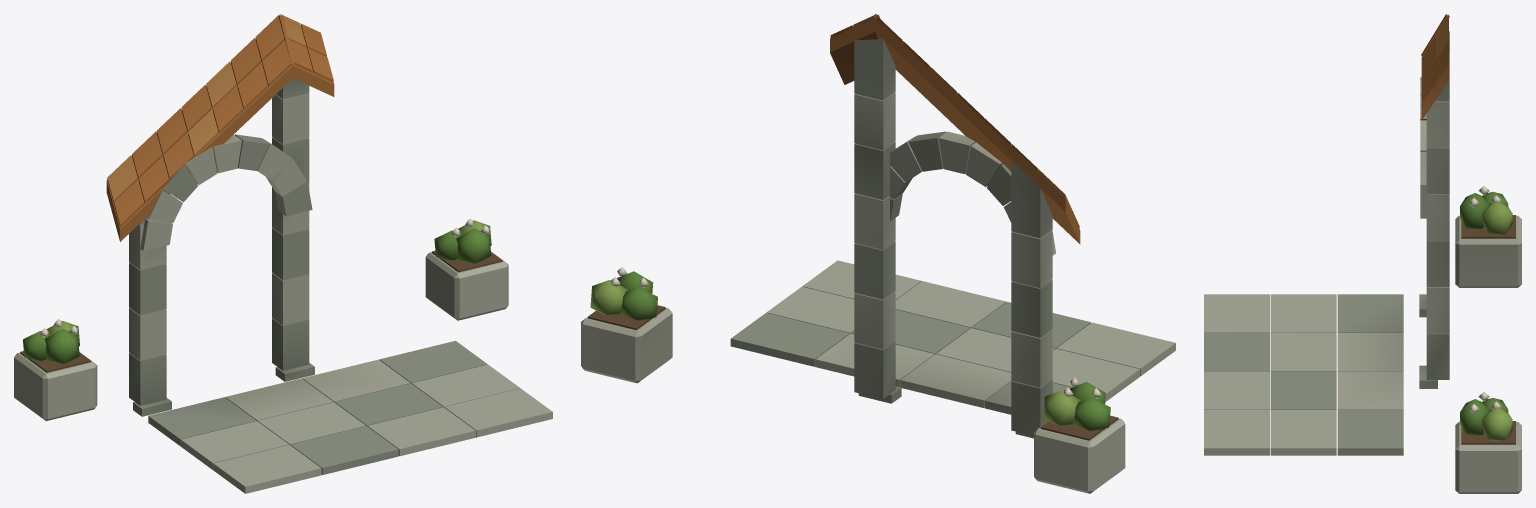
File: porch_b.glb
3 views of the same model, side by side, from view 1: azimuth 30°, elevation 25°; view 2: azimuth 150°, elevation 25°; view 3: azimuth 270°, elevation 25° (orthographic). The views are drawn at different scales.
Parts seen in each view (by area): view 1: porch_b; view 2: porch_b; view 3: porch_b.
Boxes of the visible parts, x1,y1,x2,y2 form: porch_b: (14,14,552,493); porch_b: (581,14,1175,493); porch_b: (1204,14,1521,493).
Bounding box in the file's own units: 2.49 × 1.81 × 1.43.
